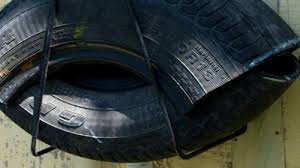tire: (1, 1, 299, 164)
